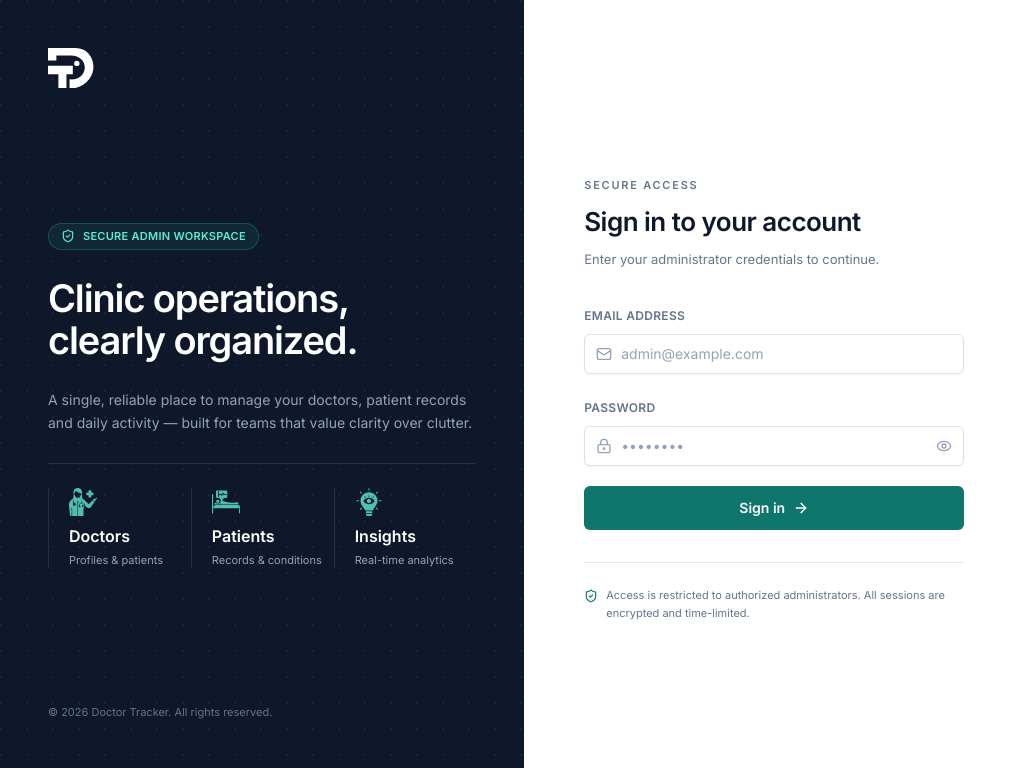
Login behavior › rejects a malformed email
Type "bad" into the field labelled "Email address" at (774, 354), box [584,334,964,374]
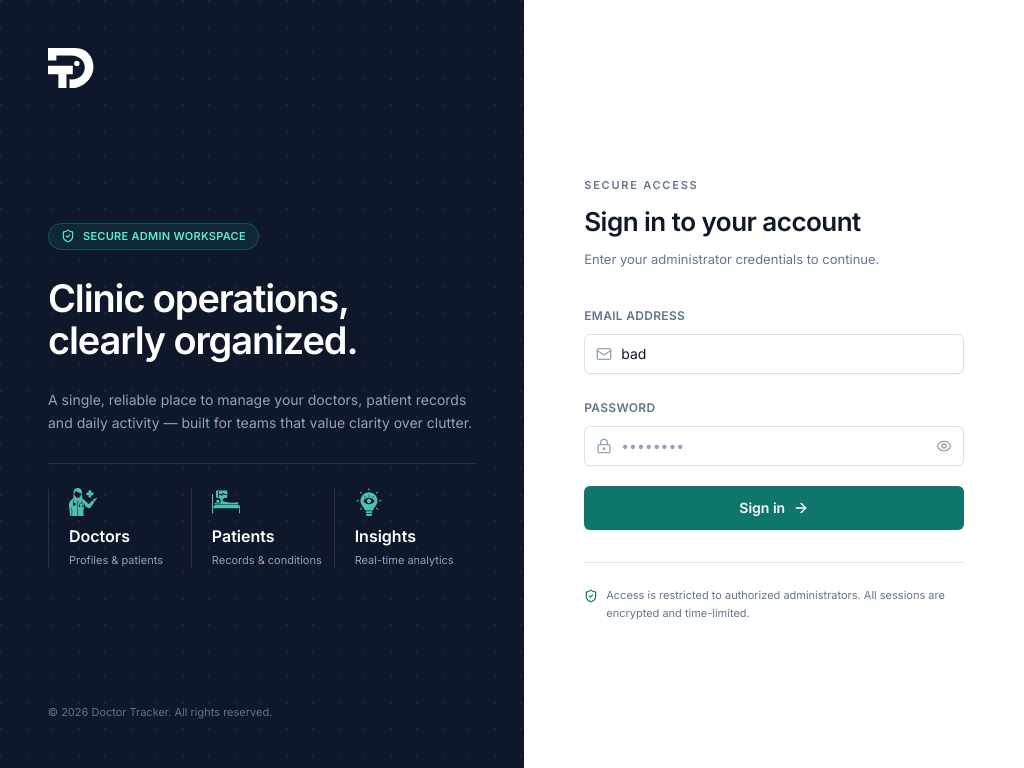
Type "secret" into the password field labelled "Password" at (774, 446), box [584,426,964,466]
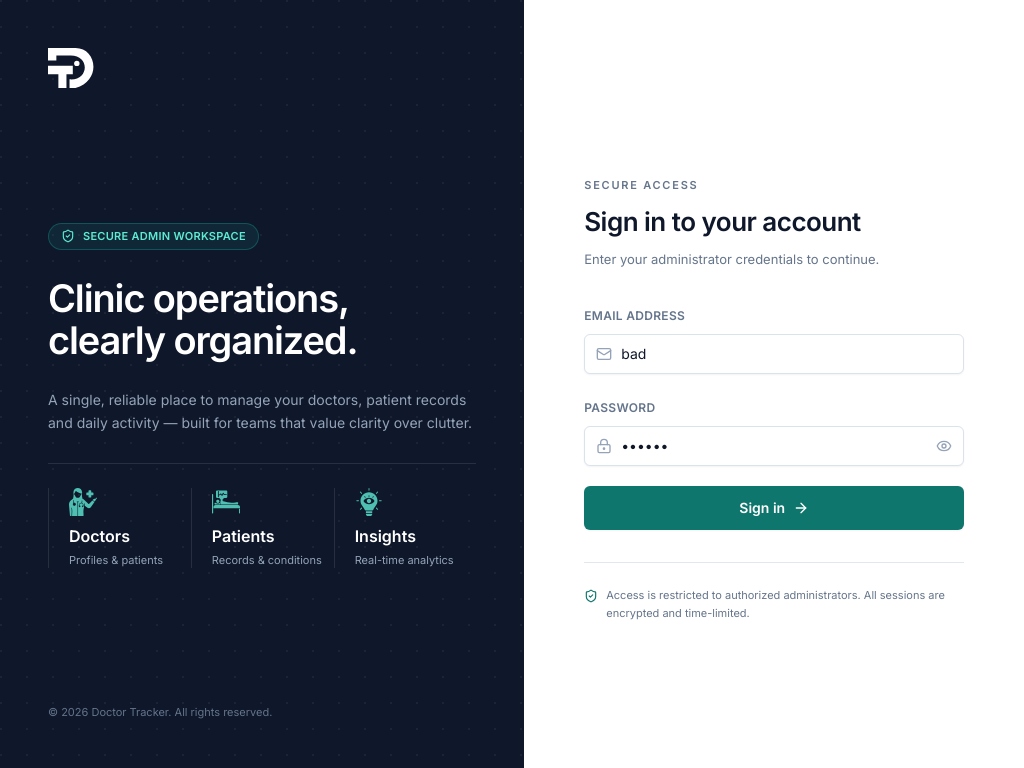
Click the button "Sign in" at (774, 508), box [584,486,964,530]
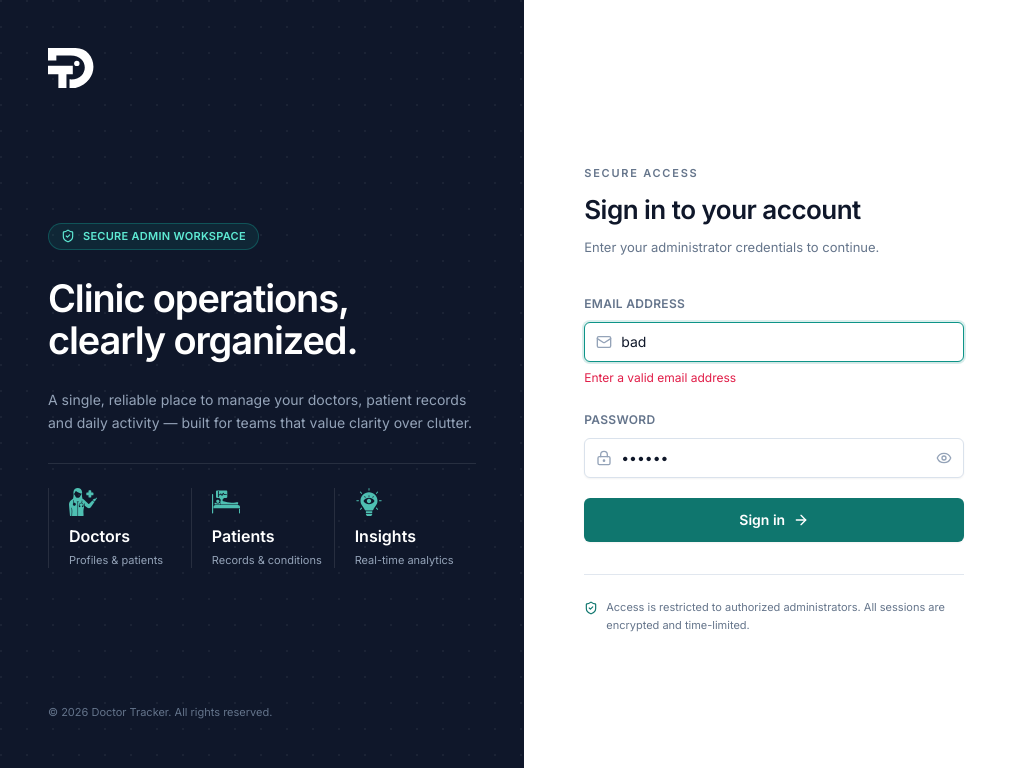
Now the text "Enter a valid email address" is shown, box [584,370,736,385]
